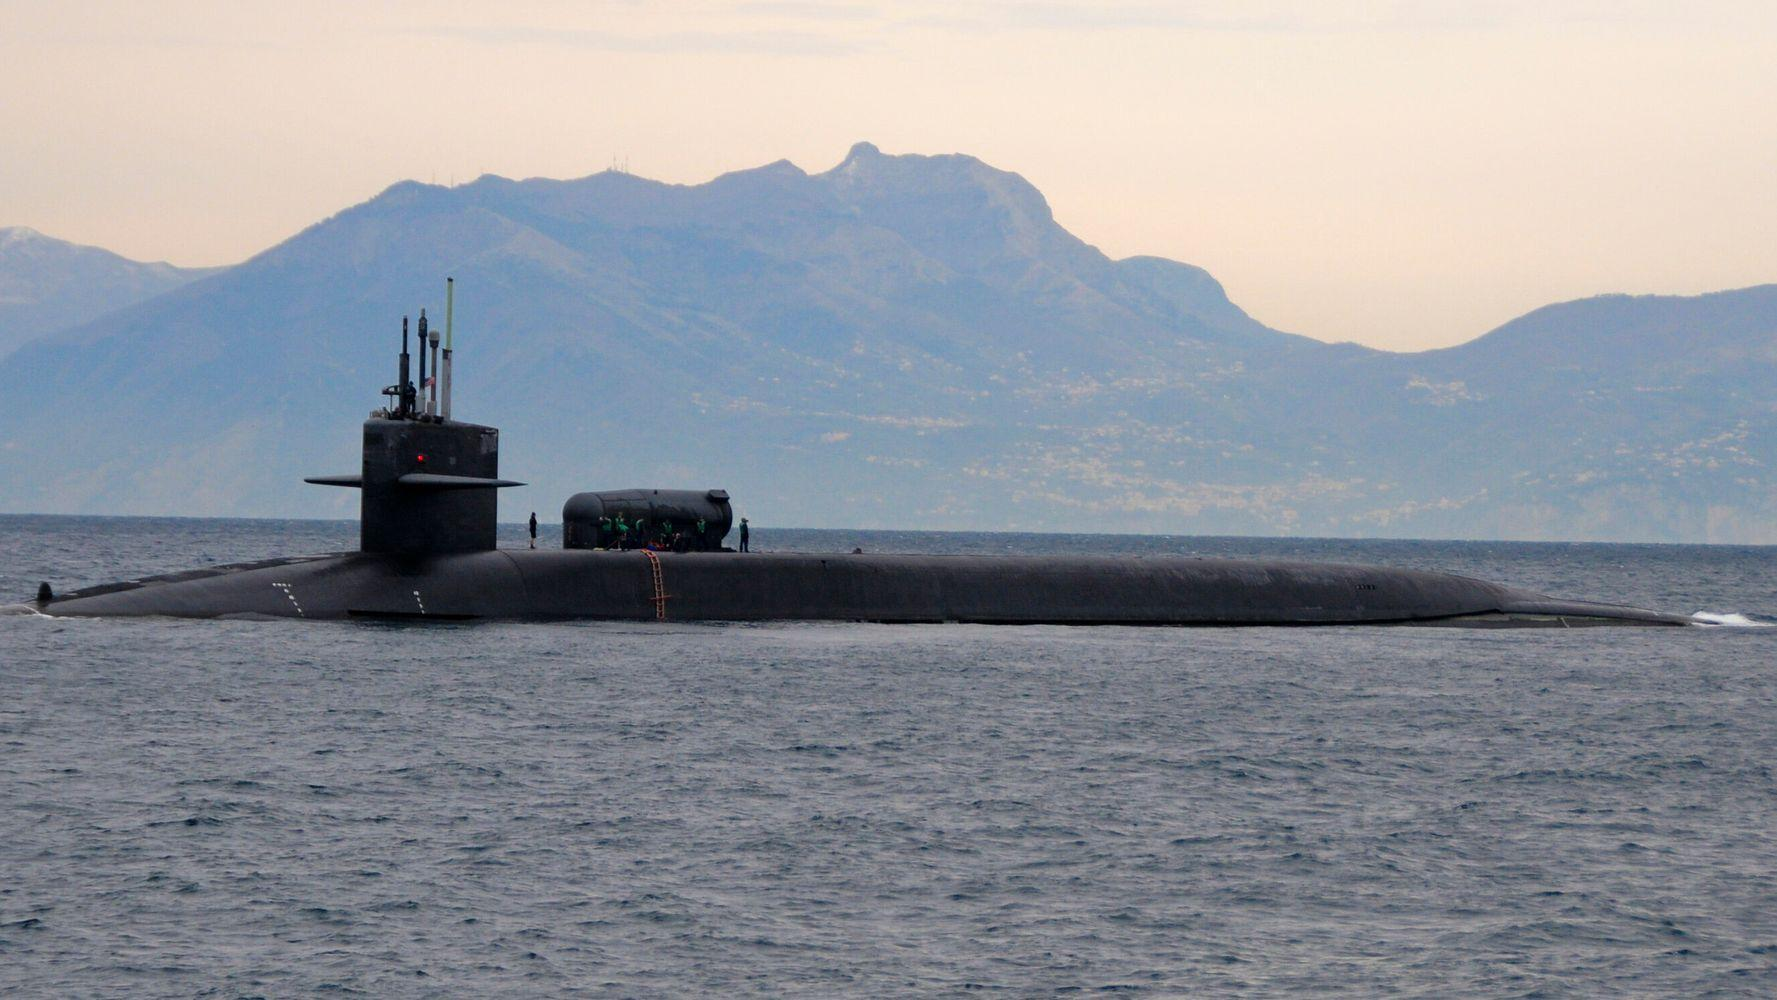Submarine: (0, 248, 1757, 845)
